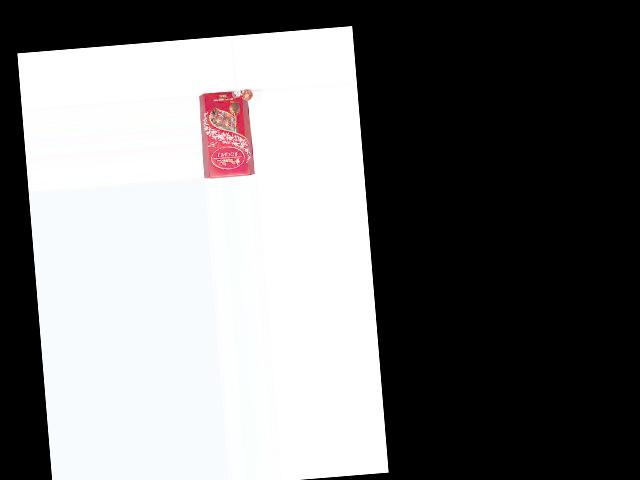chocolate: (198, 89, 260, 178)
